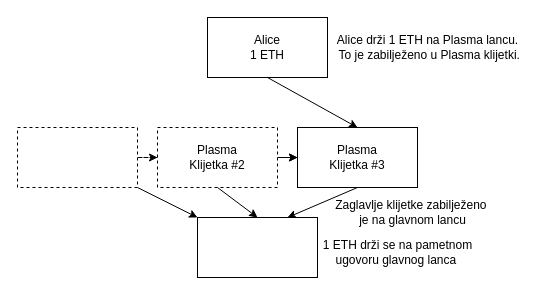
Image size: 545x295. Some labels were removed from this diagram. The shapes that lost their labels are listed below. From the top down, each one's centre as x and y in pixels, then its label:
At [77,157]: "Plasma Klijetka #1".
At [257,247]: "Glavni lanac (npr. Ethereum)".
